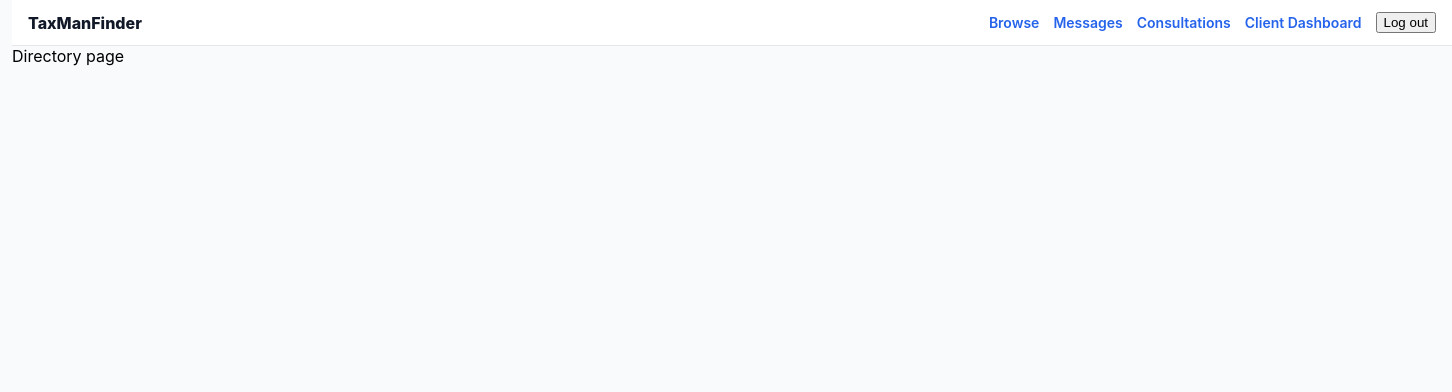
Test: logout clears session, updates the header, and returns to home
Click the button "Log out": (1406, 22) [1376,12,1436,33]
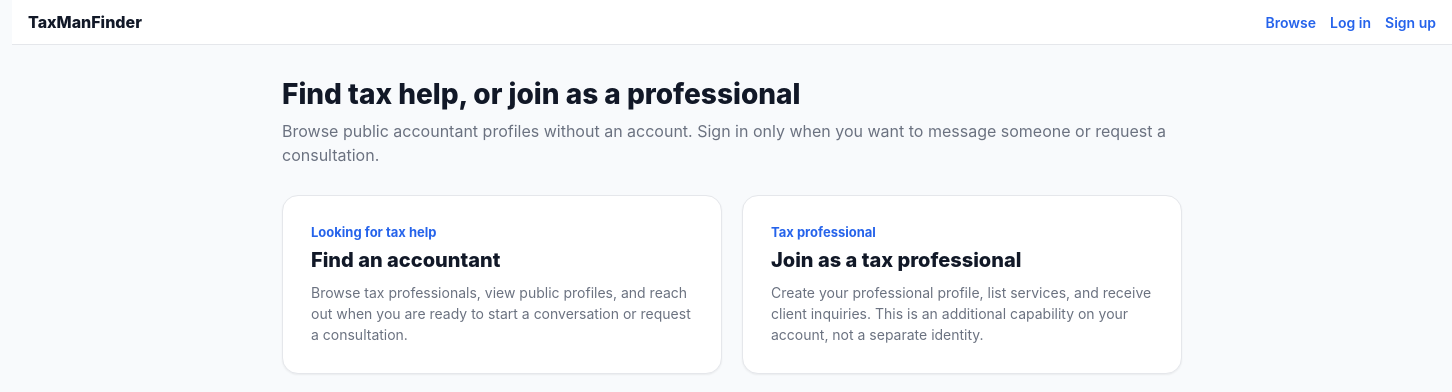
Now the link "Log in" is shown, box [1330,14,1371,30]
Now the link "Sign up" is shown, box [1385,14,1436,30]
Now the button "Log out" is gone
